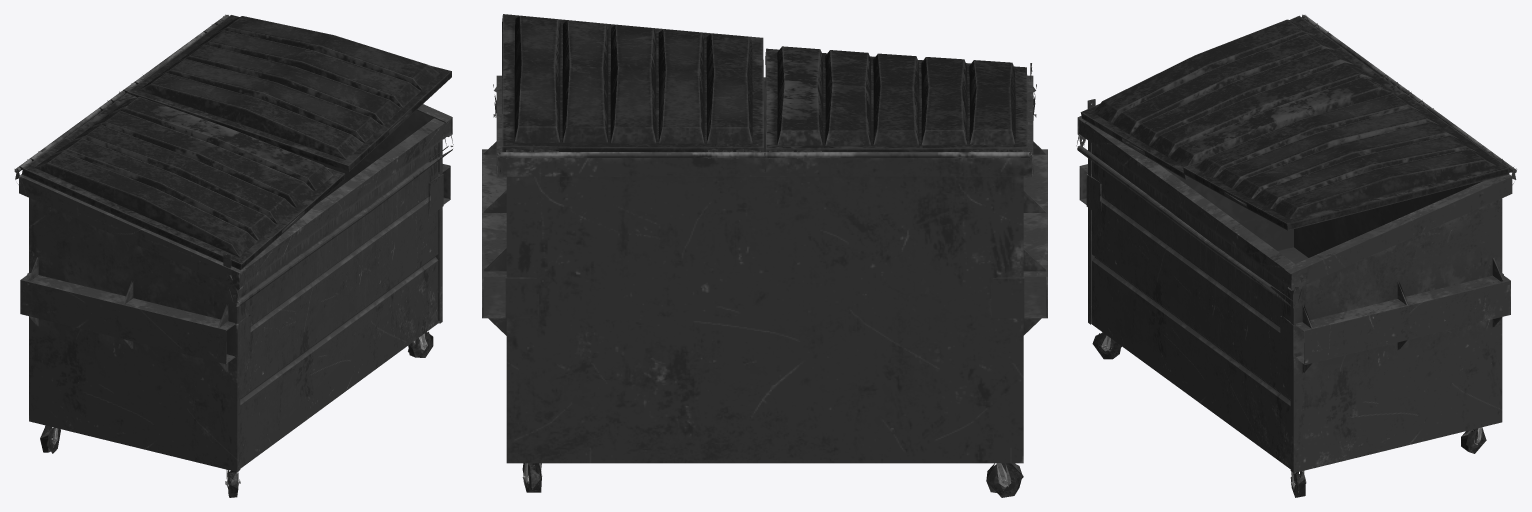
File: ROAD DUST BIN.fbx
3 renders of one model, left to right at view 1: azimuth 30°, elevation 25°; view 2: azimuth 150°, elevation 25°; view 3: azimuth 270°, elevation 25°, orthographic. The views are drawn at different scales.
Visible parts, largest first — view 1: DUMPSTER; view 2: DUMPSTER; view 3: DUMPSTER.
Part boxes in pixels (<box>): DUMPSTER: <box>14,14,453,497</box>; DUMPSTER: <box>482,14,1047,497</box>; DUMPSTER: <box>1076,14,1516,497</box>.
Bounding box in the file's own units: 2.47 × 1.6 × 2.14.
Materials: 1 (1 with a texture image).
